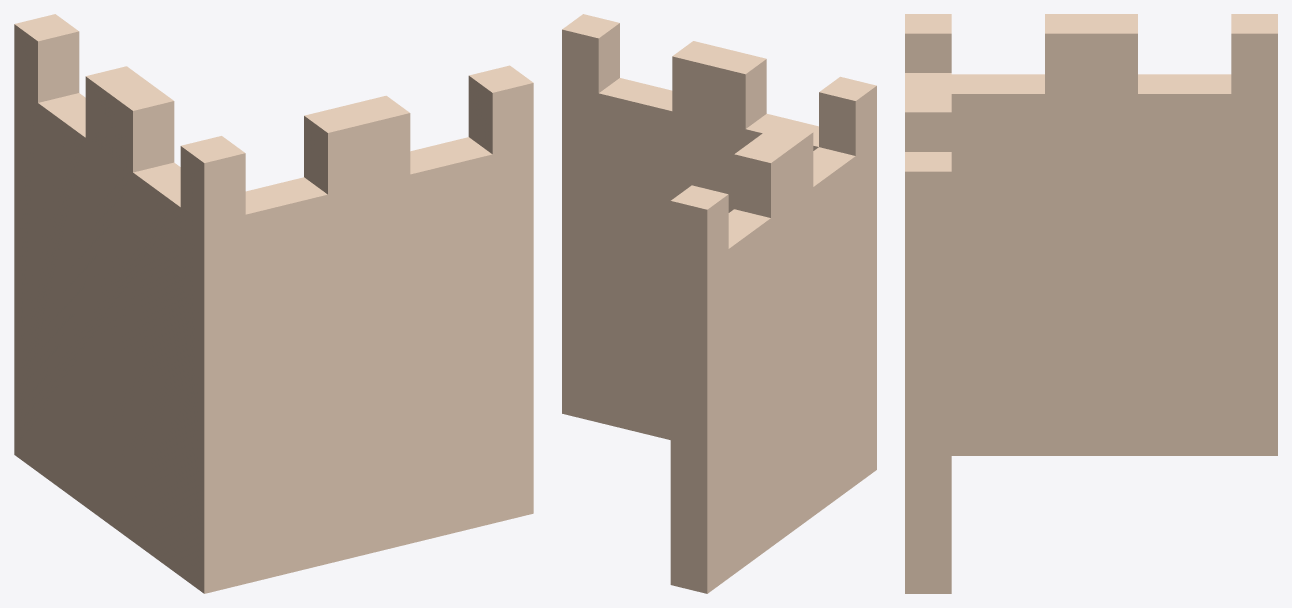
The model's file is Abstract_Castle_Block_Single_BattlementLeftCorner_Cream_01.fbx.
The picture shows the model from 3 angles, left to right: view 1: azimuth 30°, elevation 25°; view 2: azimuth 150°, elevation 25°; view 3: azimuth 270°, elevation 25°; orthographic projection. The views are drawn at different scales.
Visible parts, largest first — view 1: Model; view 2: Model; view 3: Model.
Boxes of the visible parts, left/top/right/bottom form: Model: left=14, top=14, right=533, bottom=593; Model: left=562, top=14, right=876, bottom=593; Model: left=905, top=14, right=1277, bottom=593.
Bounding box in the file's own units: 1000 × 1250 × 1000.
